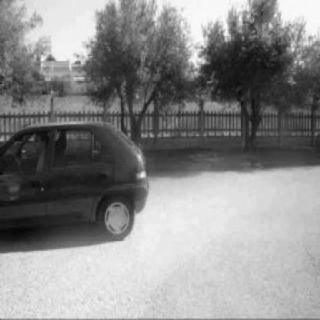other: (1, 113, 154, 245)
